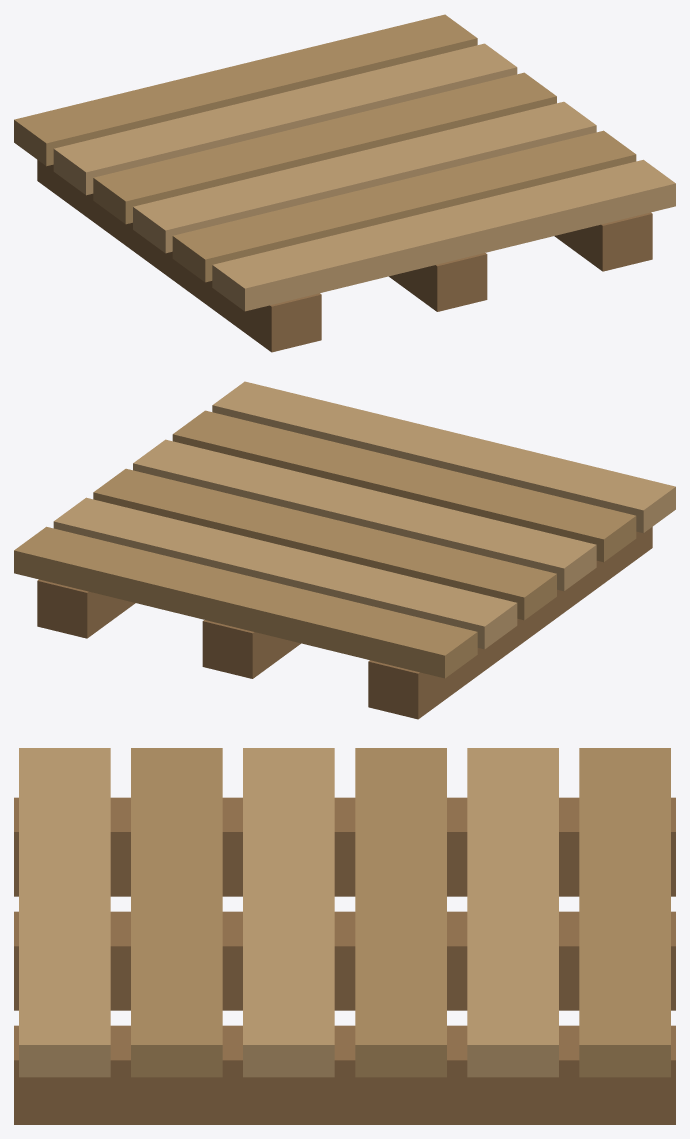
The model's file is pallet-3-blue.glb.
The picture shows the model from 3 angles, top to bottom: view 1: azimuth 30°, elevation 25°; view 2: azimuth 150°, elevation 25°; view 3: azimuth 270°, elevation 25°; orthographic projection. The views are drawn at different scales.
Visible parts, largest first — view 1: static-3--5, static-3--7, static-3--9; view 2: static-3--7, static-3--5, static-3--9; view 3: static-3--7, static-3--5, static-3--9.
Part boxes in pixels (x1,y1,x2,y2): static-3--5: [53, 43, 675, 311]; static-3--7: [14, 14, 636, 282]; static-3--9: [37, 160, 652, 352]; static-3--7: [14, 410, 636, 678]; static-3--5: [53, 381, 675, 649]; static-3--9: [37, 527, 652, 719]; static-3--7: [131, 748, 670, 1077]; static-3--5: [19, 748, 558, 1077]; static-3--9: [14, 797, 675, 1124].
Size of the model in its own units: 1.38 by 0.21 by 1.3.
